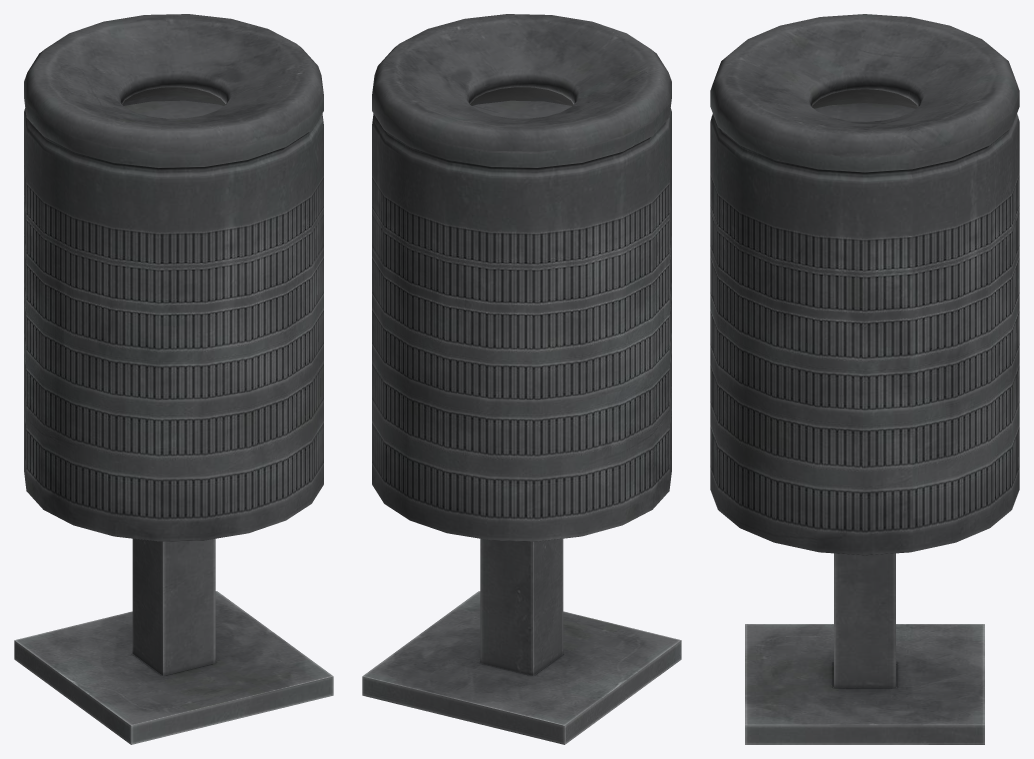
The model's file is Trash_Bin_2.glb.
3 views of the same model, side by side, from view 1: azimuth 30°, elevation 25°; view 2: azimuth 150°, elevation 25°; view 3: azimuth 270°, elevation 25° (orthographic). The views are drawn at different scales.
Visible parts, largest first — view 1: Trash_Bin_2__LOD3; view 2: Trash_Bin_2__LOD3; view 3: Trash_Bin_2__LOD3.
Part boxes in pixels (bbox=[...]): Trash_Bin_2__LOD3: bbox=[14, 14, 333, 744]; Trash_Bin_2__LOD3: bbox=[362, 14, 681, 744]; Trash_Bin_2__LOD3: bbox=[710, 14, 1019, 744].
Size of the model in its own units: 0.4964 by 1.1 by 0.4964.
1 material, 1 textured.
